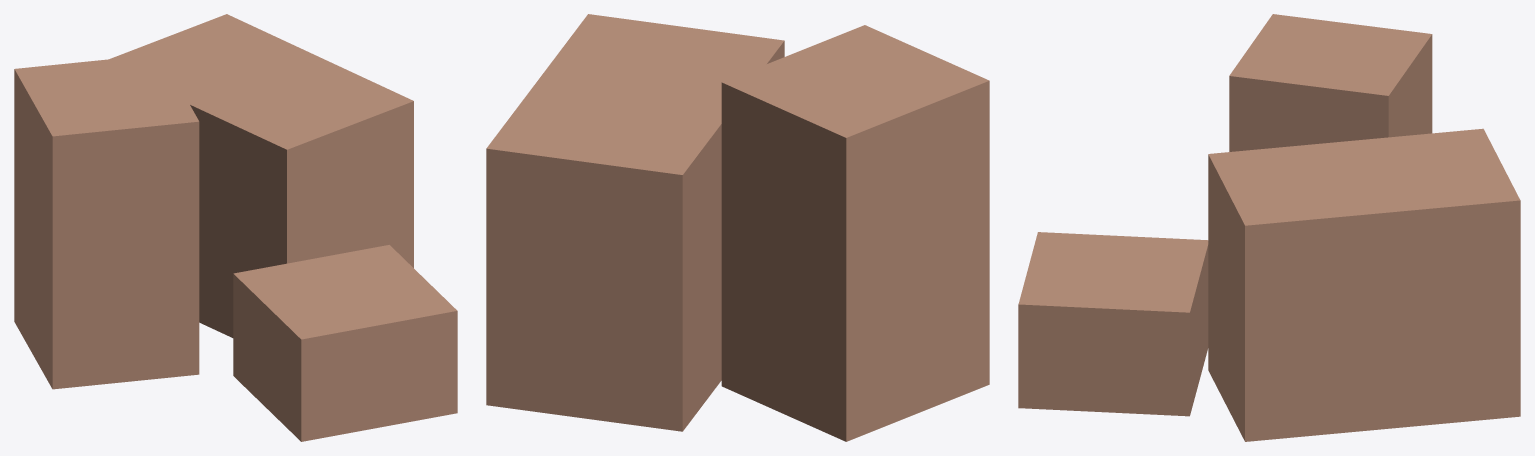
3 views of the same model, side by side, from view 1: azimuth 30°, elevation 25°; view 2: azimuth 150°, elevation 25°; view 3: azimuth 270°, elevation 25° (orthographic). The views are drawn at different scales.
Parts seen in each view (by area): view 1: box.002, box, box.001; view 2: box.002, box; view 3: box, box.001, box.002.
Boxes of the visible parts, x1,y1,x2,y2 form: box.002: (14, 54, 199, 389); box: (109, 14, 413, 337); box.001: (233, 245, 457, 441); box.002: (721, 25, 989, 441); box: (486, 14, 784, 431); box: (1208, 128, 1520, 441); box.001: (1018, 232, 1208, 416); box.002: (1229, 14, 1432, 151).
Bounding box in the file's own units: 144 × 100 × 178.
